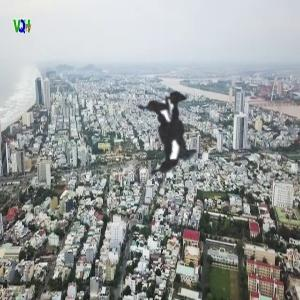drone: (51, 10, 291, 250)
